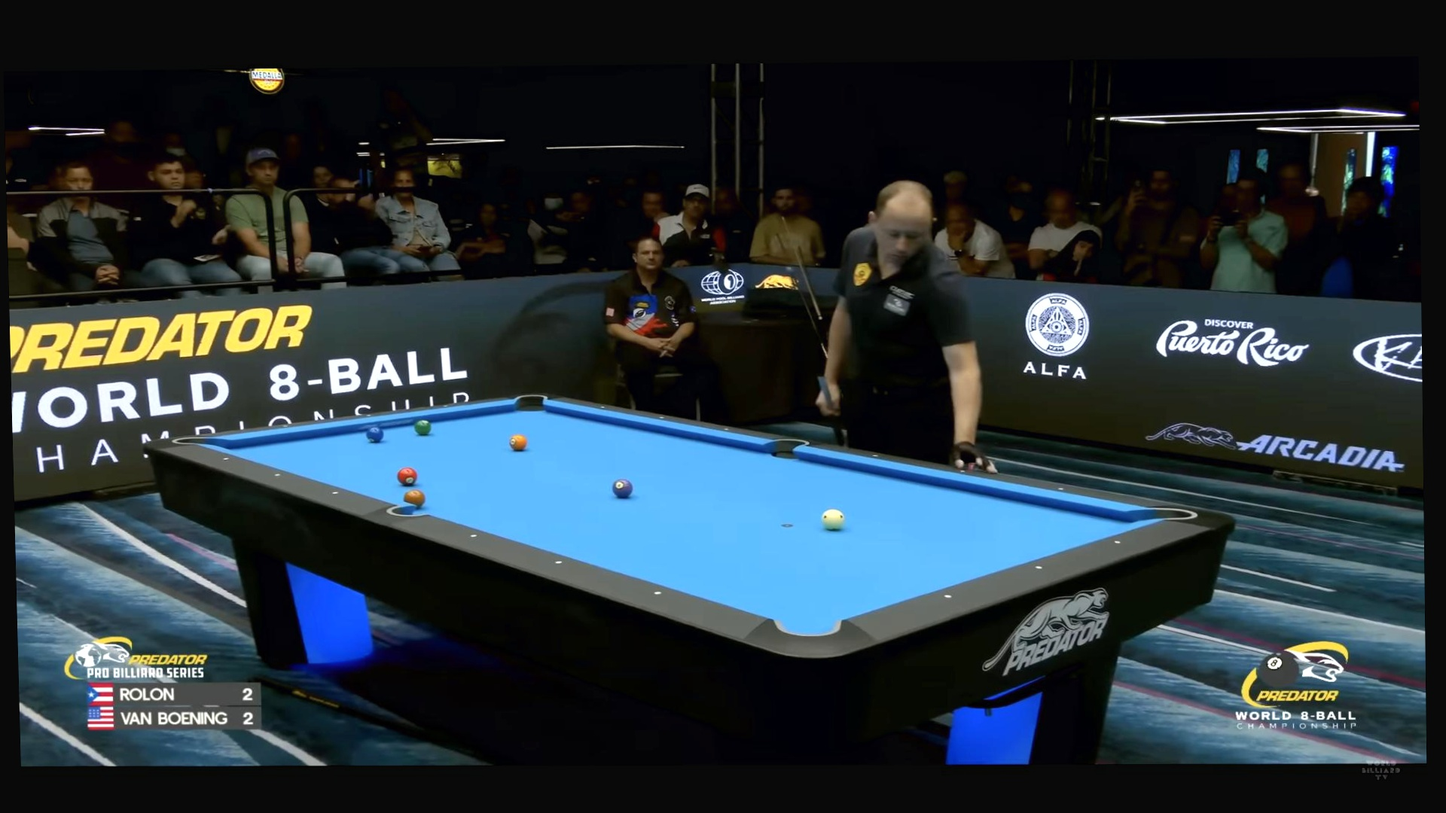Black: (651, 587, 664, 599), (552, 556, 565, 568), (467, 530, 480, 541), (271, 471, 282, 480), (1113, 538, 1123, 547), (1056, 484, 1066, 493), (958, 466, 968, 475), (331, 488, 341, 497), (221, 454, 231, 463), (943, 592, 952, 601), (1034, 563, 1043, 572), (871, 452, 880, 461), (281, 422, 290, 430), (441, 402, 450, 410), (365, 411, 373, 419), (658, 414, 664, 420), (599, 404, 605, 410), (724, 427, 730, 432)
Cue: (612, 478, 633, 498), (404, 489, 426, 508), (397, 466, 418, 485), (509, 434, 528, 451), (366, 426, 384, 443), (414, 420, 431, 435)
Stripe: (821, 508, 845, 531)
